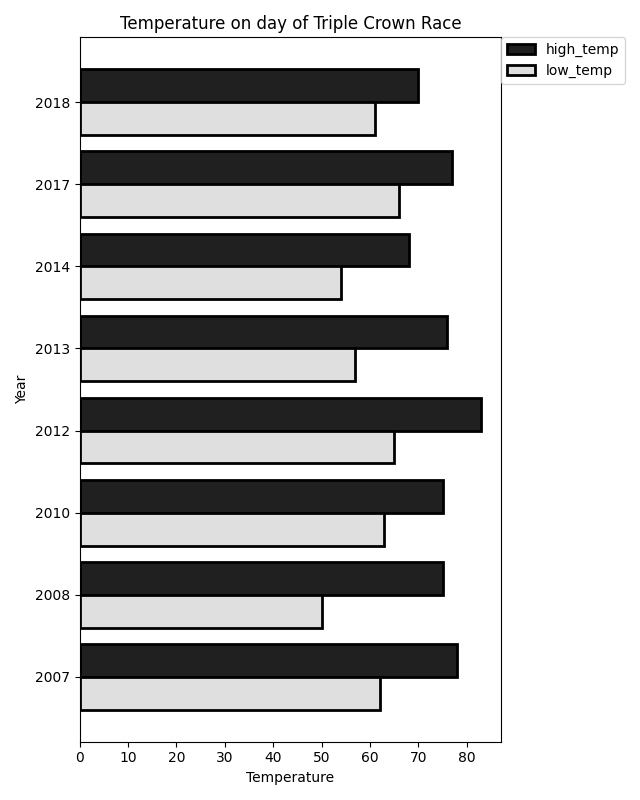canvas: (79, 49, 494, 725)
legend: (505, 40, 620, 82)
title: (115, 10, 478, 36)
x-axis: (74, 737, 513, 749)
x-labels: (70, 748, 485, 768)
x-title: (236, 771, 340, 788)
y-axis: (72, 25, 85, 749)
y-labels: (31, 70, 74, 689)
y-title: (9, 370, 32, 418)
